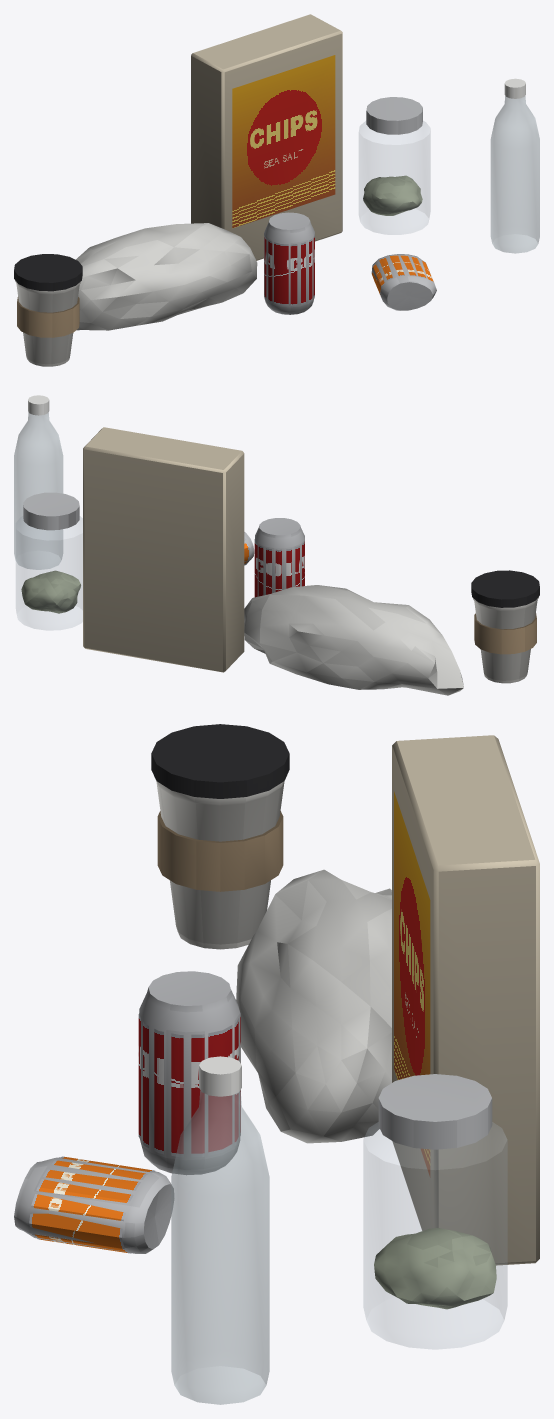
File: counter_clutter.glb
The picture shows the model from 3 angles, top to bottom: view 1: azimuth 30°, elevation 25°; view 2: azimuth 150°, elevation 25°; view 3: azimuth 270°, elevation 25°; orthographic projection. The views are drawn at different scales.
Parts seen in each view (by area): view 1: body, panels, glass; view 2: body, glass, panels; view 3: body, glass, panels.
Boxes of the visible parts, left/top/right/bottom form: body: left=14, top=14, right=525, bottom=366; panels: left=232, top=55, right=433, bottom=305; glass: left=359, top=96, right=539, bottom=253; body: left=21, top=395, right=539, bottom=695; glass: left=14, top=412, right=82, bottom=630; panels: left=244, top=538, right=304, bottom=597; body: left=14, top=724, right=539, bottom=1309; glass: left=171, top=1090, right=507, bottom=1404; panels: left=29, top=791, right=430, bottom=1253.
Bounding box in the file's own units: 0.777 × 0.29 × 0.3427.
12 materials, 1 textured.
